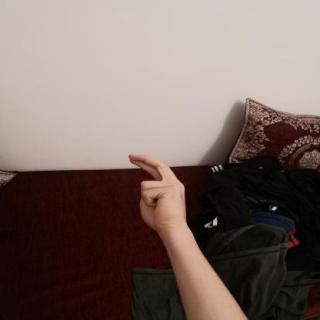ZAY: (121, 148, 194, 235)
